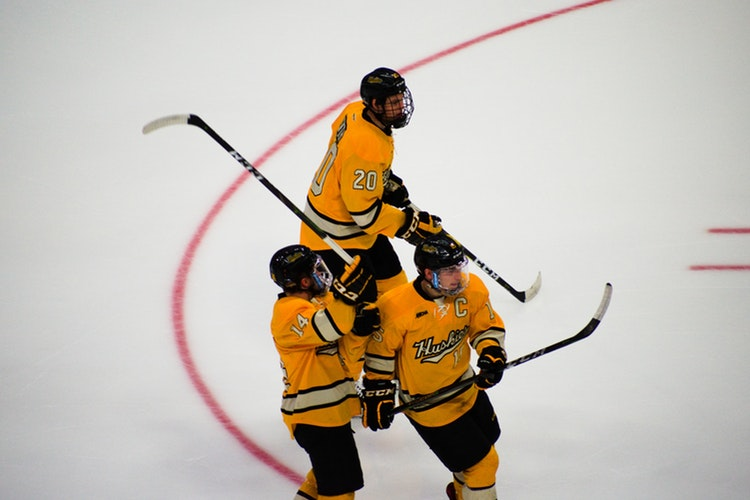helmet: (352, 67, 415, 123), (262, 243, 325, 286), (416, 239, 468, 272)
